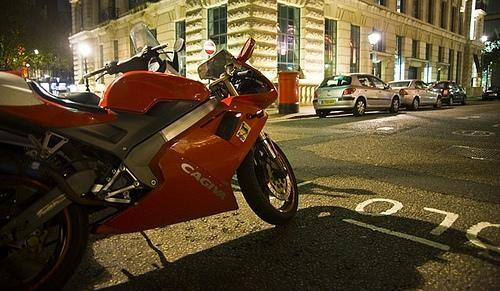car: (314, 74, 400, 120), (388, 80, 442, 110), (428, 80, 468, 107), (482, 85, 500, 101)
motorcycle: (0, 39, 300, 288), (58, 24, 187, 104)
